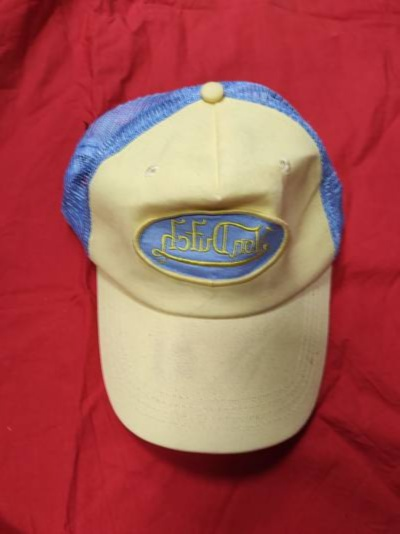Hat: (48, 52, 384, 472)
